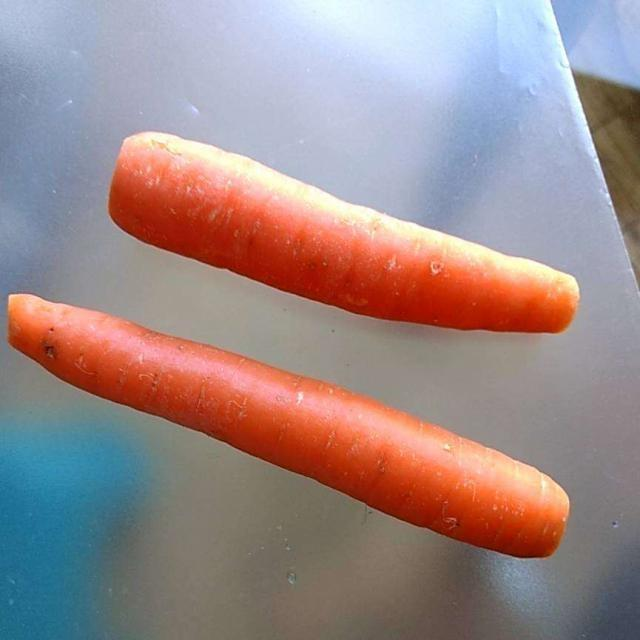carrot: (7, 121, 609, 557)
